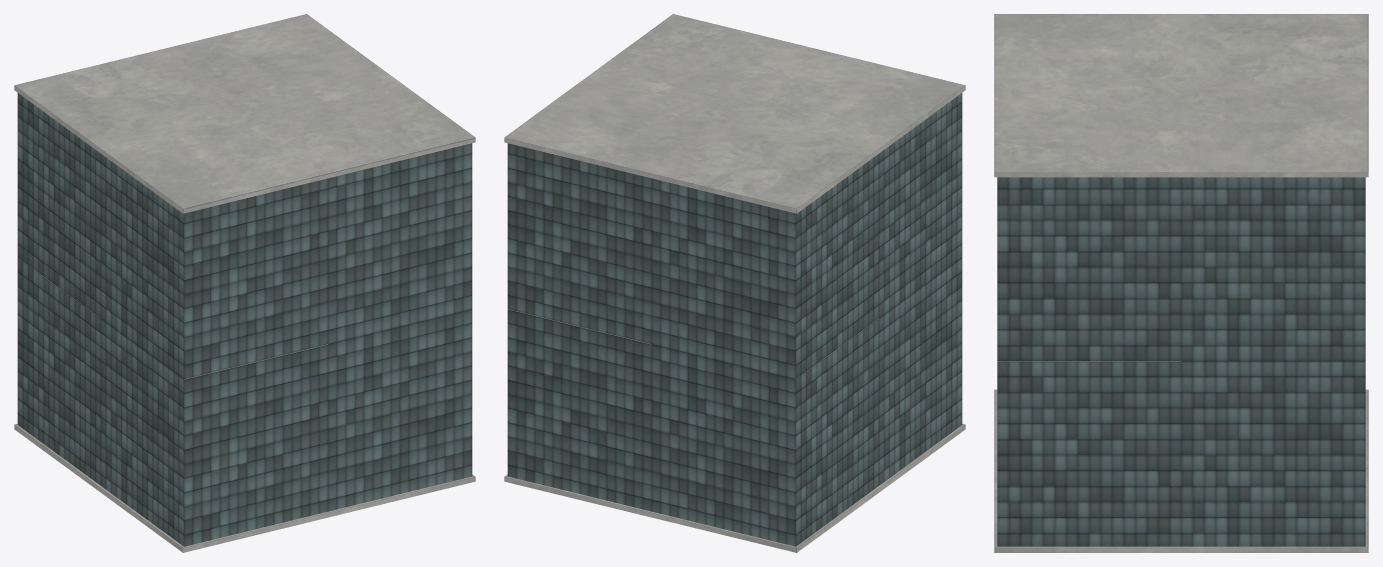
The model's file is building_08.1.glb.
3 views of the same model, side by side, from view 1: azimuth 30°, elevation 25°; view 2: azimuth 150°, elevation 25°; view 3: azimuth 270°, elevation 25° (orthographic). The views are drawn at different scales.
Parts seen in each view (by area): view 1: building_08.1; view 2: building_08.1; view 3: building_08.1.
Boxes of the visible parts, <box> form: building_08.1: <box>14,14,475,552</box>; building_08.1: <box>504,14,965,552</box>; building_08.1: <box>994,14,1368,552</box>.
Size of the model in its own units: 65 by 73 by 65.
1 material, 1 textured.
